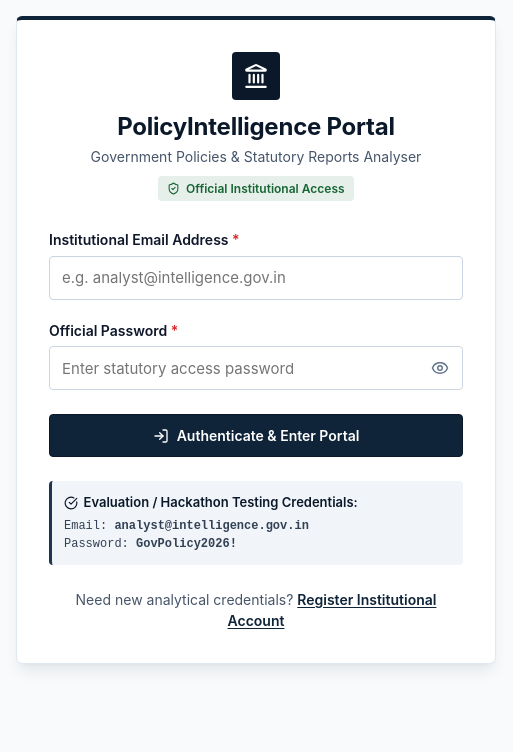
Test: LoginPage Component › displays client validation errors and summary when submitted with empty fields
Click the button "Authenticate & Enter Portal".
click(256, 436)  # box 49,414 -> 463,457
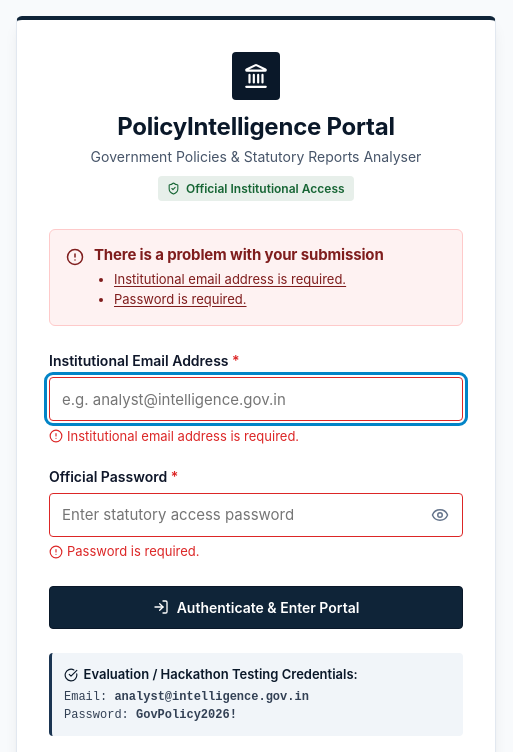
Result: the message is shown at 49,229 -> 463,326
